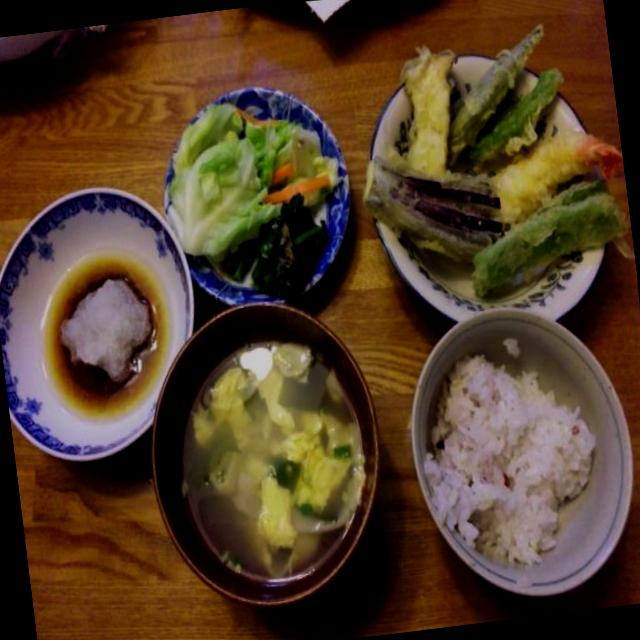Rice: (400, 314, 631, 586)
